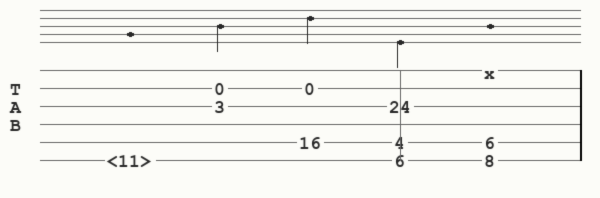0: (214, 80, 229, 96), (304, 80, 319, 96)
16: (299, 134, 325, 150)
24: (389, 98, 415, 114)
3: (214, 98, 229, 114)
4: (394, 134, 409, 150)
6: (394, 152, 409, 168), (484, 134, 499, 150)
8: (484, 152, 499, 168)
harmonic: (107, 152, 157, 168)
x: (484, 64, 499, 76)
